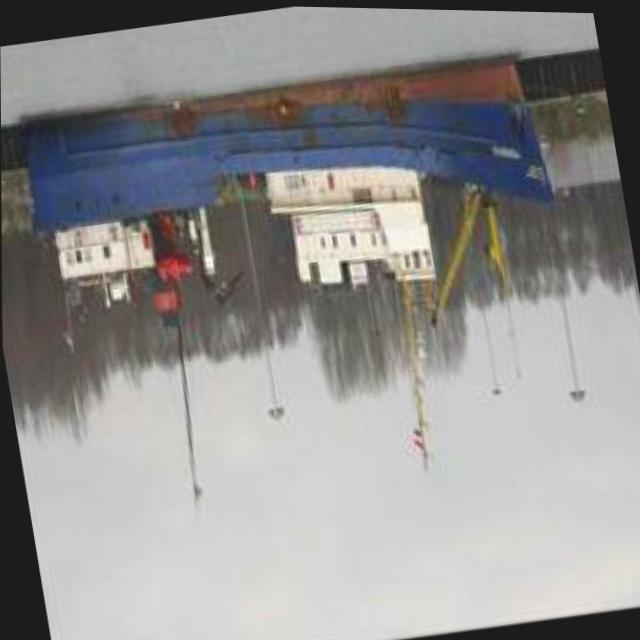ship2: (18, 54, 555, 478)
